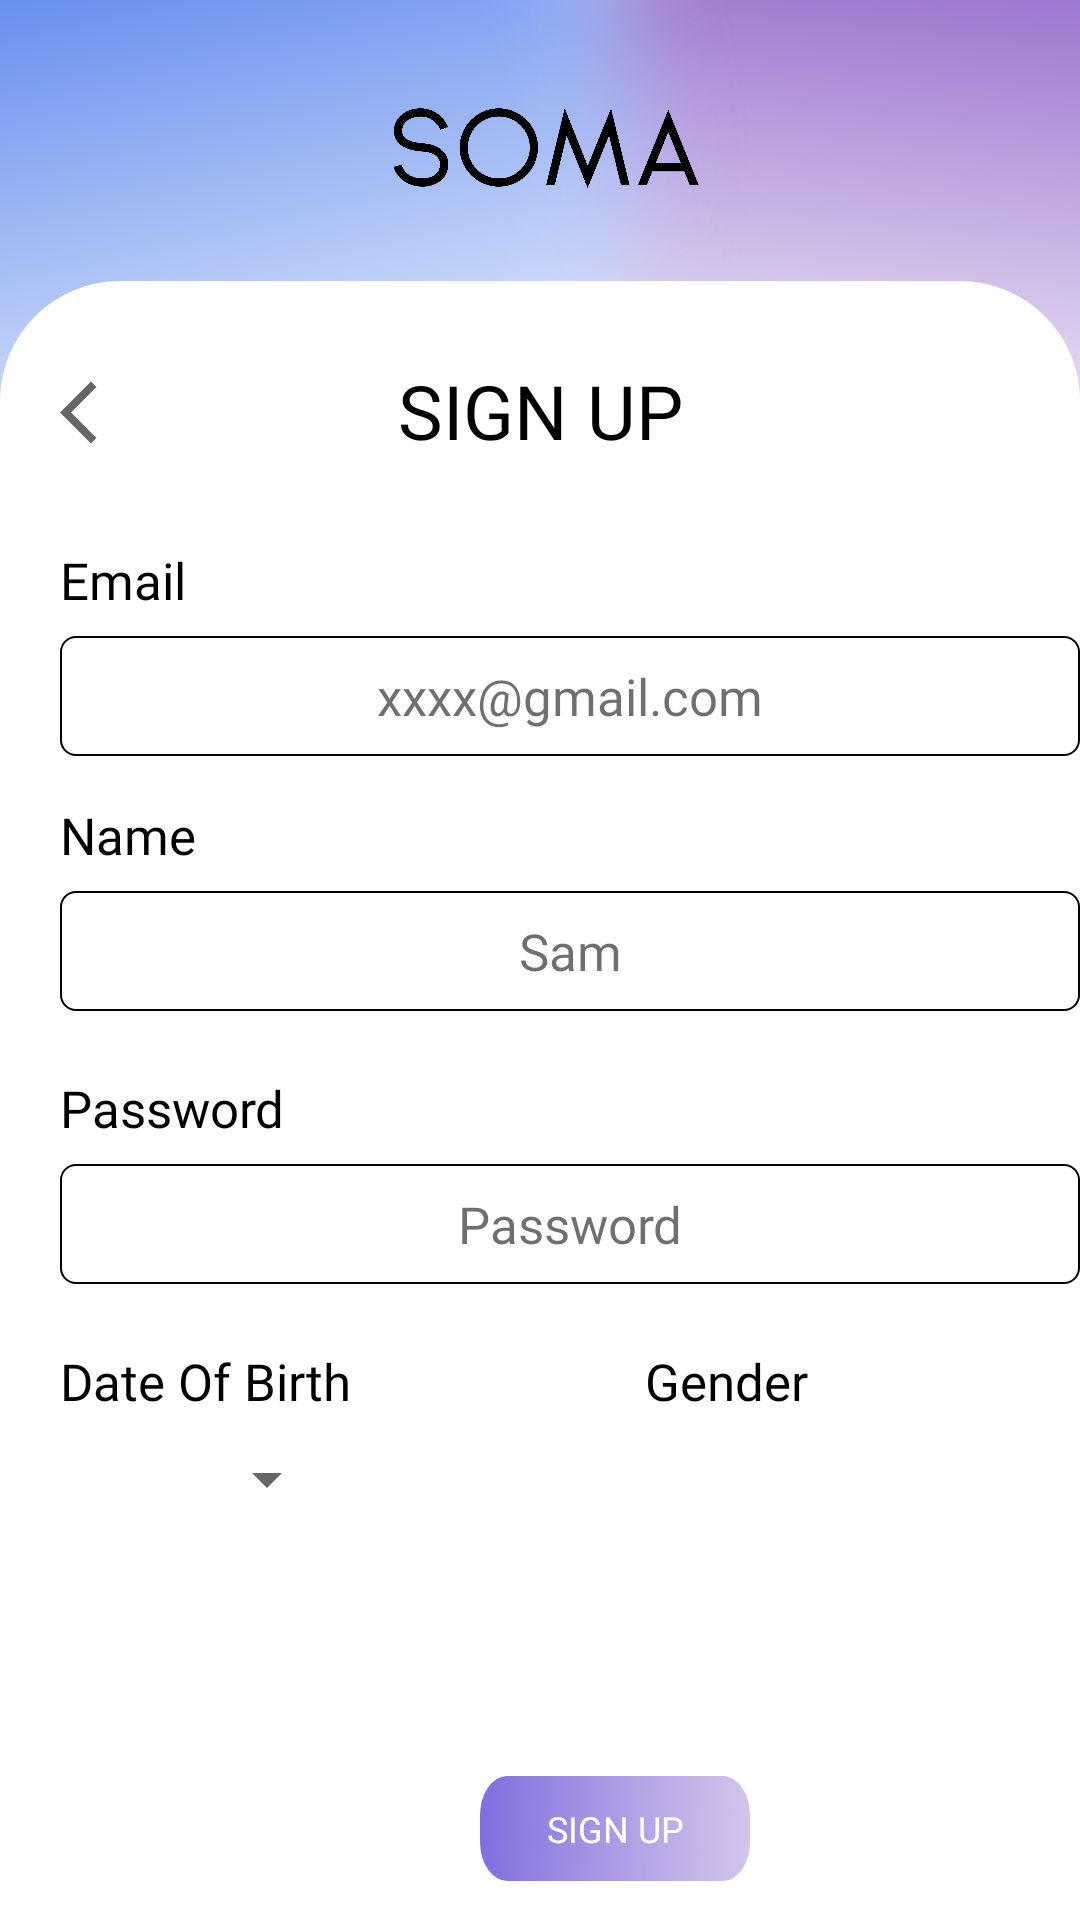

Locate icon controls on the screen. Image size 1080px x 1920px, boxes as (x1,y1,x2,y2).
backicon: (60,381,96,444)
